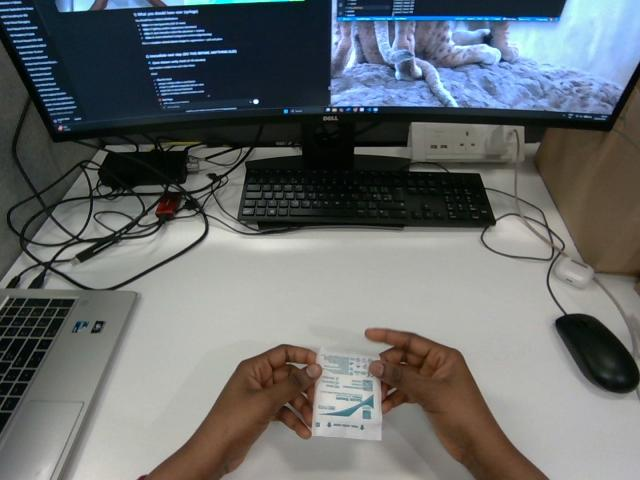gauze: (312, 348, 381, 440)
